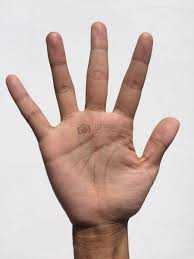palm: (4, 17, 183, 237)
